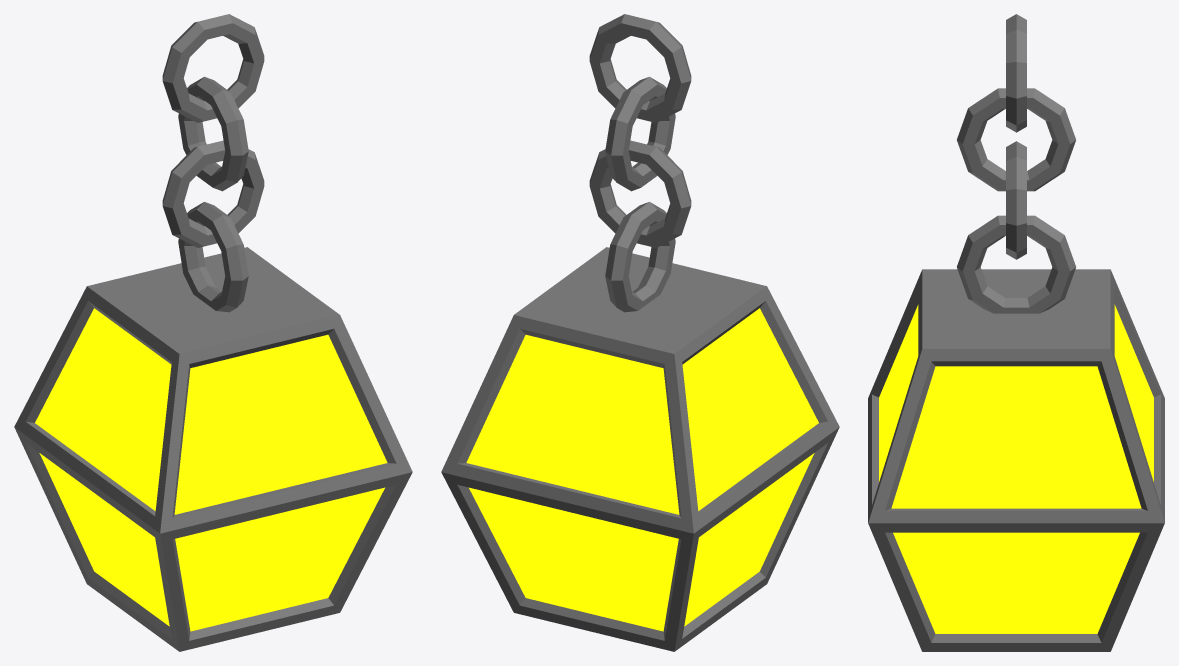
File: Lampada de pendurar.fbx
3 renders of one model, left to right at view 1: azimuth 30°, elevation 25°; view 2: azimuth 150°, elevation 25°; view 3: azimuth 270°, elevation 25°, orthographic.
Visible parts, largest first — view 1: Cube.002; view 2: Cube.002; view 3: Cube.002.
Boxes of the visible parts, <box> form: Cube.002: <box>14,14,412,651</box>; Cube.002: <box>441,14,839,651</box>; Cube.002: <box>868,14,1164,651</box>.
Size of the model in its own units: 25.42 by 55.81 by 25.42.
